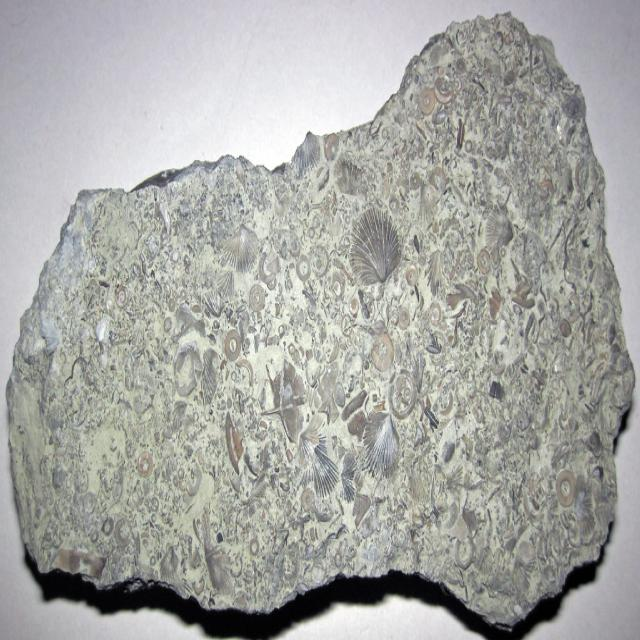Sedimentary: (14, 11, 637, 634)
